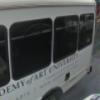buses: (0, 0, 95, 100)
